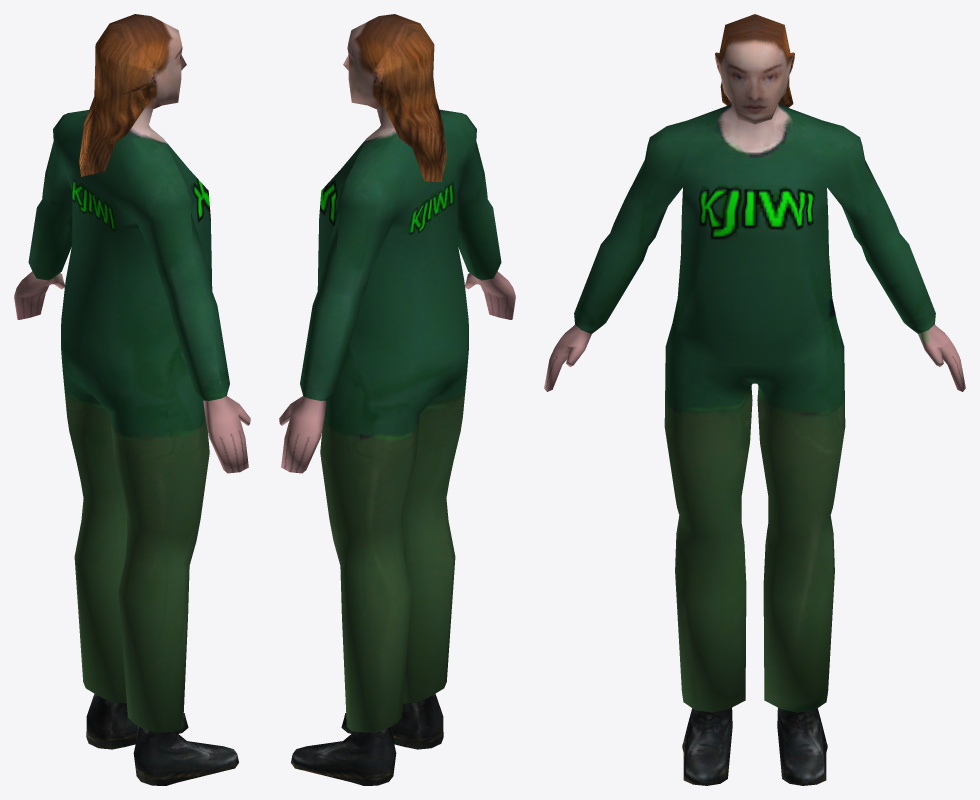
Rendered from KjiwiKasseDame.glb.
3 views of the same model, side by side, from view 1: azimuth 30°, elevation 25°; view 2: azimuth 150°, elevation 25°; view 3: azimuth 270°, elevation 25° (orthographic).
Parts seen in each view (by area): view 1: Character_Female_13; view 2: Character_Female_13; view 3: Character_Female_13.
Boxes of the visible parts, x1,y1,x2,y2 form: Character_Female_13: (14, 14, 250, 785); Character_Female_13: (279, 14, 515, 785); Character_Female_13: (544, 14, 965, 785).
Bounding box in the file's own units: 0.8216 × 4.44 × 2.32.
Materials: 1 (1 with a texture image).
